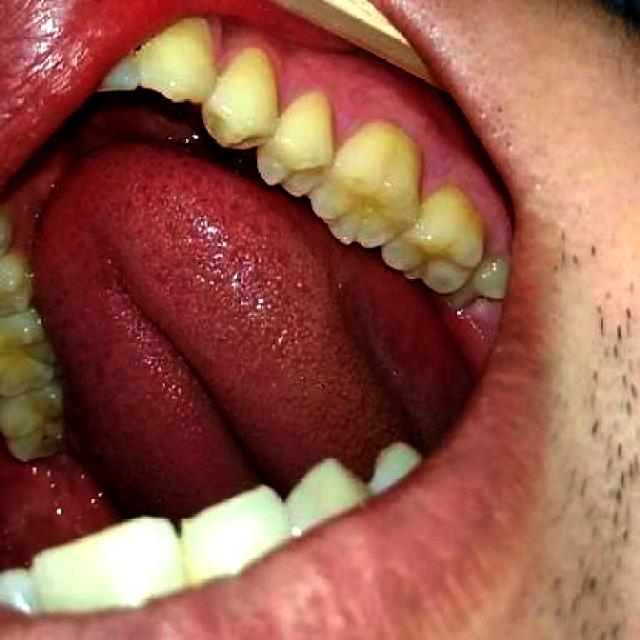Plaque: (34, 426, 54, 445)
